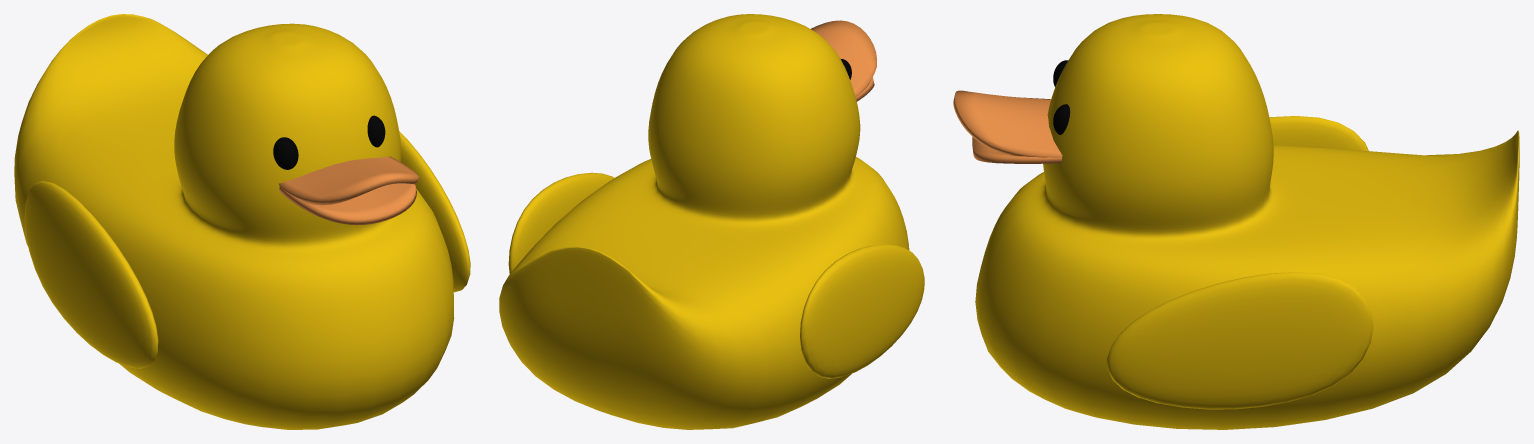
File: ördük.fbx
3 renders of one model, left to right at view 1: azimuth 30°, elevation 25°; view 2: azimuth 150°, elevation 25°; view 3: azimuth 270°, elevation 25°, orthographic. The views are drawn at different scales.
Visible parts, largest first — view 1: Cube, Plane, Plane.001, Icosphere; view 2: Cube, Plane; view 3: Cube, Plane, Plane.001, Icosphere.
Part boxes in pixels (box(x1,y1,x2,y2)): Cube: box(14, 14, 470, 429); Plane: box(278, 156, 419, 205); Plane.001: box(279, 183, 416, 225); Icosphere: box(273, 115, 385, 169); Cube: box(499, 14, 924, 429); Plane: box(811, 20, 876, 96); Cube: box(975, 14, 1519, 429); Plane: box(953, 90, 1062, 157); Plane.001: box(972, 137, 1061, 163); Icosphere: box(1053, 60, 1070, 134).
Size of the model in its own units: 199 by 205 by 282.
